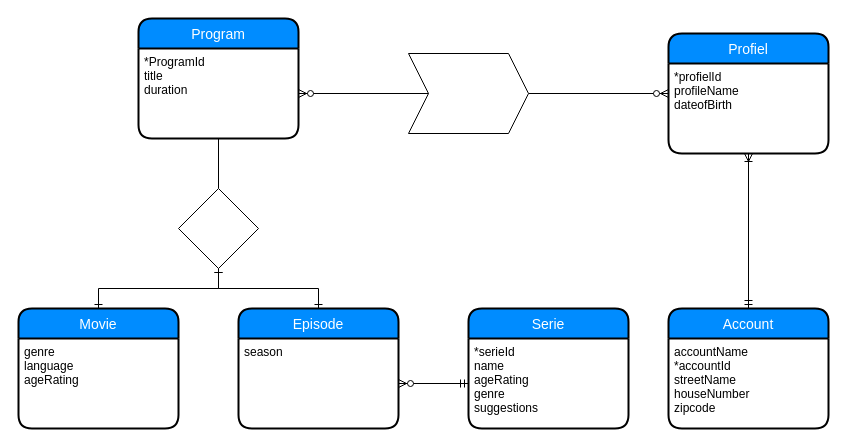
Image size: 846x446. Some labels were removed from this diagram. Here are the shapes that lost their labels. From the top down, the centre of each, then its label:
(468,93): watchedTime
(218,228): is a
